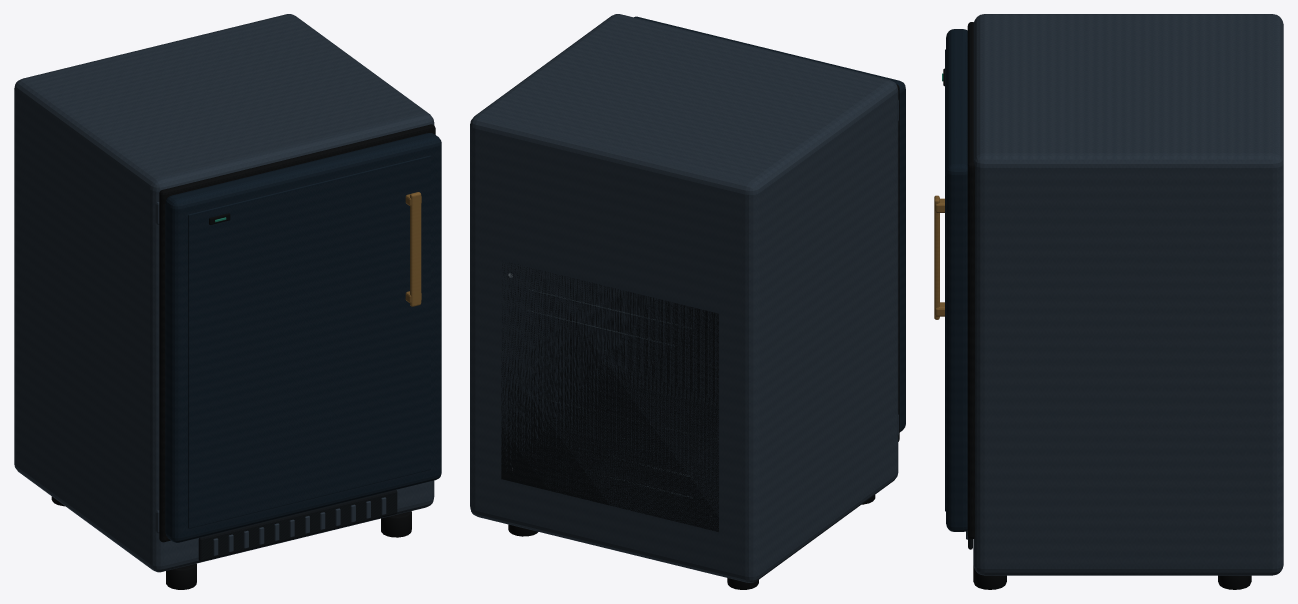
The model's file is bb_set_mini_fridge.fbx.
3 renders of one model, left to right at view 1: azimuth 30°, elevation 25°; view 2: azimuth 150°, elevation 25°; view 3: azimuth 270°, elevation 25°, orthographic. The views are drawn at different scales.
Visible parts, largest first — view 1: bb_set_mini_fridge; view 2: bb_set_mini_fridge; view 3: bb_set_mini_fridge.
Part boxes in pixels (left/top/right/bottom): bb_set_mini_fridge: left=14, top=14, right=441, bottom=589; bb_set_mini_fridge: left=470, top=14, right=905, bottom=589; bb_set_mini_fridge: left=934, top=14, right=1283, bottom=589.
Bounding box in the file's own units: 0.5 × 0.7 × 0.5.
